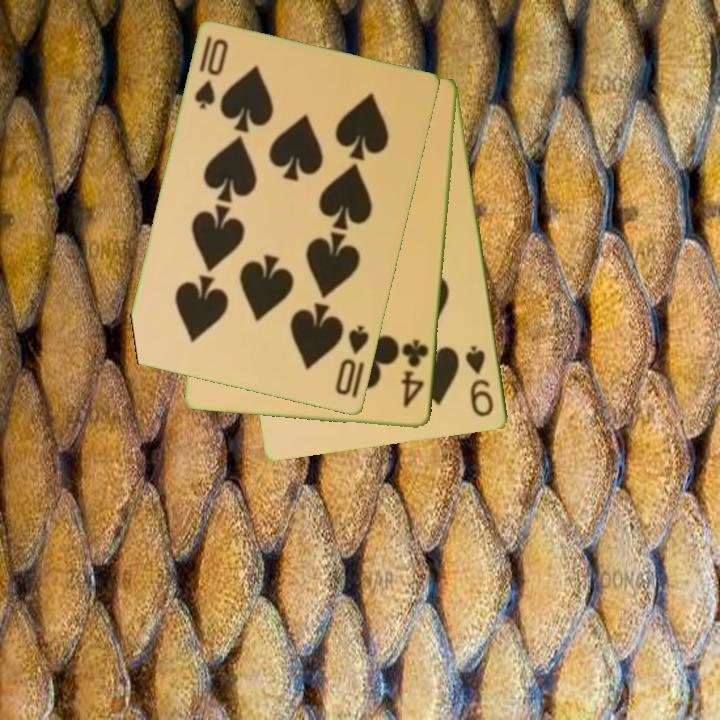10s: (191, 33, 232, 113), (332, 322, 372, 399)
4c: (398, 336, 432, 411)
9s: (462, 342, 497, 420)
